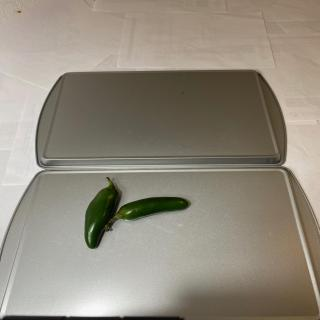Chilli: (84, 177, 190, 249), (104, 196, 190, 232), (84, 176, 118, 249)
